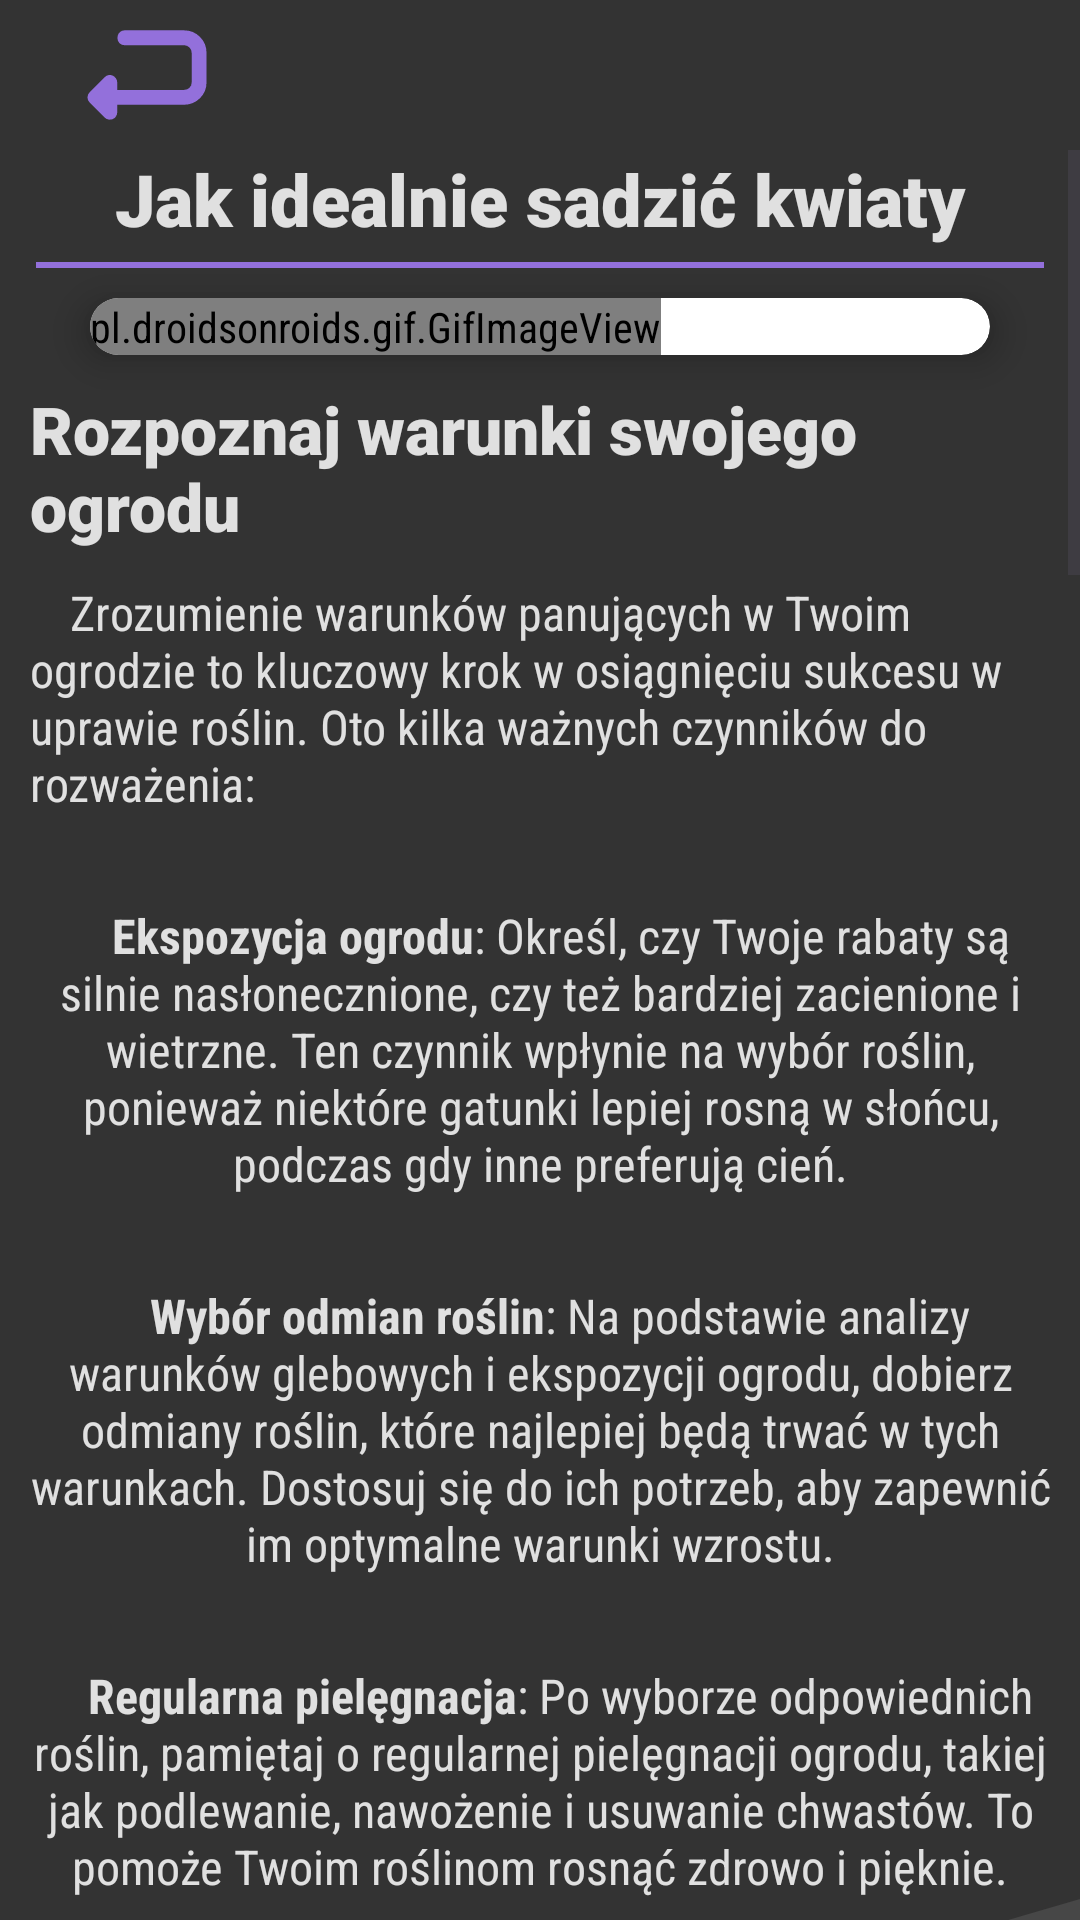

Screen size 1080x1920. Icon name, then its center in pixels as (x=x, y=y):
return: (x=147, y=75)
